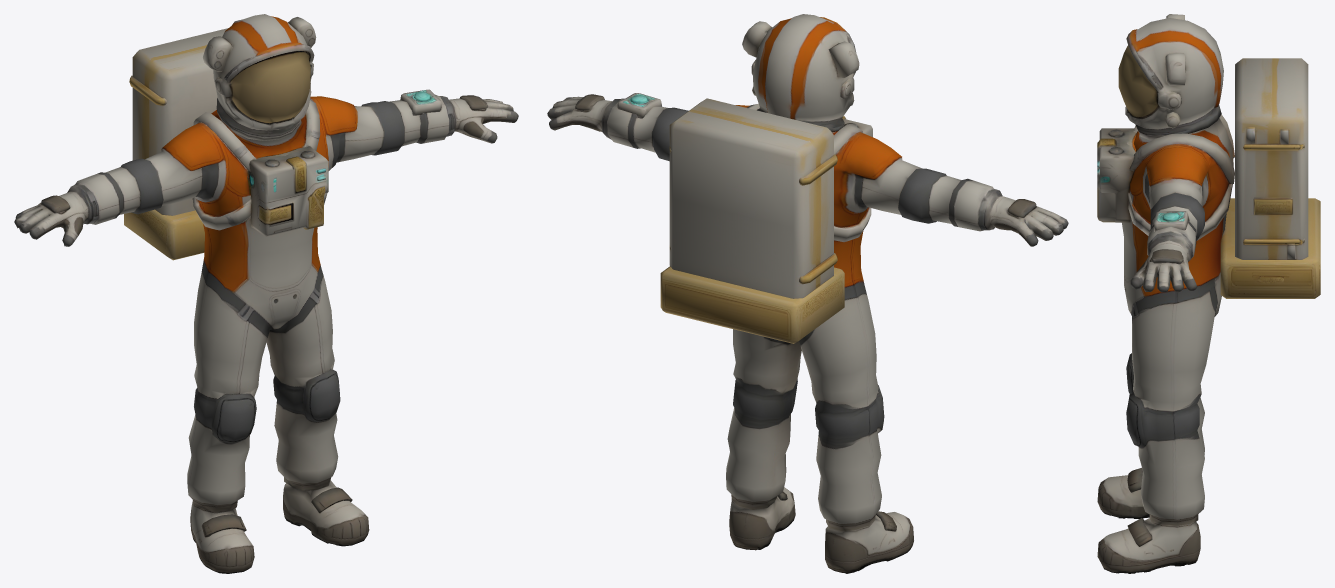
Rendered from astronaut.glb.
3 views of the same model, side by side, from view 1: azimuth 30°, elevation 25°; view 2: azimuth 150°, elevation 25°; view 3: azimuth 270°, elevation 25° (orthographic). The views are drawn at different scales.
Parts seen in each view (by area): view 1: Orange Lunar Pathfinder; view 2: Orange Lunar Pathfinder; view 3: Orange Lunar Pathfinder.
Boxes of the visible parts, x1,y1,x2,y2 form: Orange Lunar Pathfinder: [14, 14, 518, 573]; Orange Lunar Pathfinder: [547, 14, 1068, 573]; Orange Lunar Pathfinder: [1097, 14, 1320, 573].
Size of the model in its own units: 0.998 by 0.998 by 0.3926.
1 material, 1 textured.
